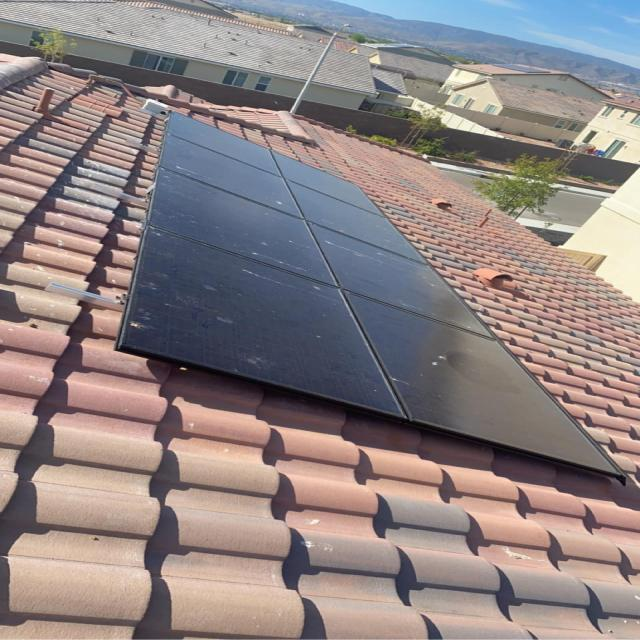dust-solar-panel: (120, 108, 623, 476)
